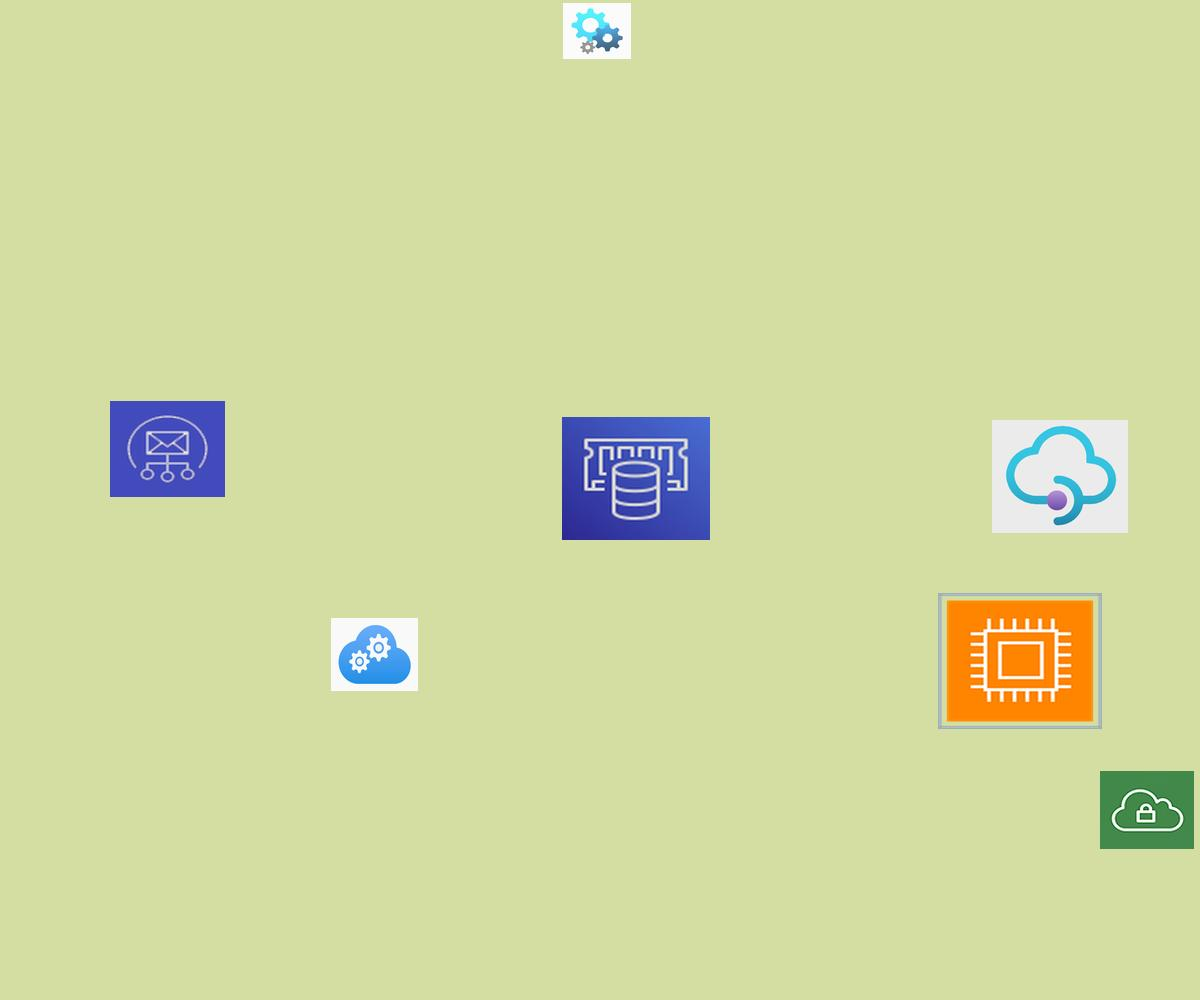AWS-Category_Compute: (938, 593, 1102, 729)
AWS-ElastiCache: (562, 417, 710, 540)
AWS-Private_vpc: (1100, 771, 1194, 849)
AWS-Simple-Email-Service: (110, 401, 225, 497)
Azure_api: (563, 3, 631, 59)
Azure_api_gateway: (992, 420, 1128, 533)
Azure_cloud_services: (331, 618, 418, 691)
